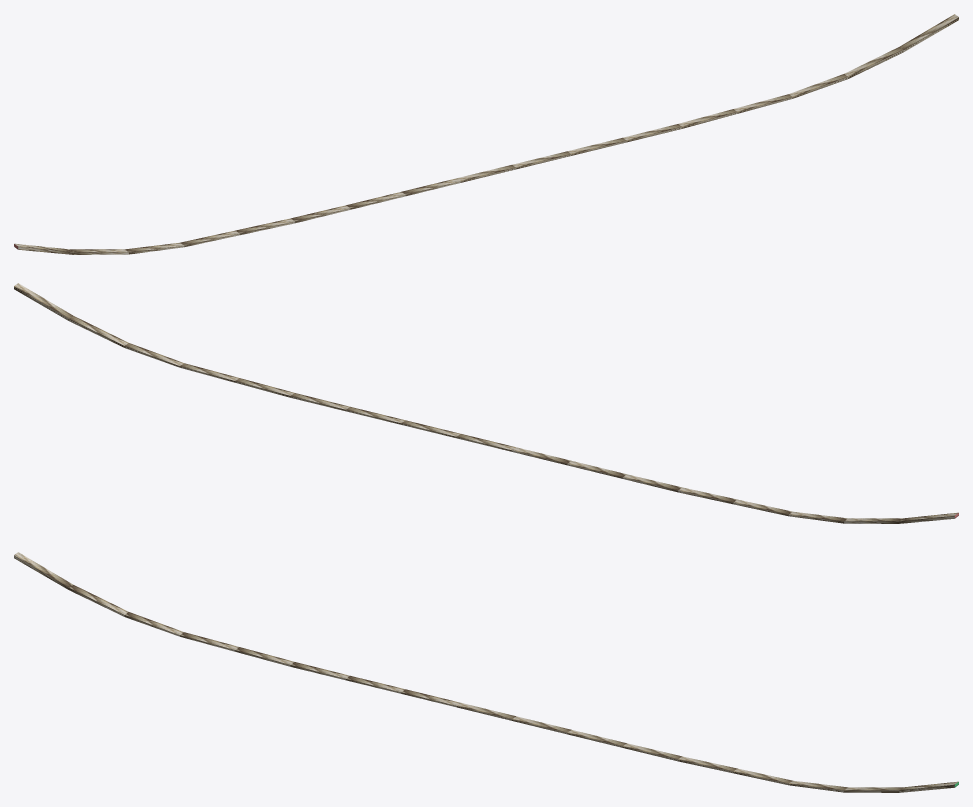
File: chineseropebuildings.fbx
3 views of the same model, one above another, from view 1: azimuth 30°, elevation 25°; view 2: azimuth 150°, elevation 25°; view 3: azimuth 330°, elevation 25° (orthographic).
Parts seen in each view (by area): view 1: rope; view 2: rope; view 3: rope.
Boxes of the visible parts, left/top/right/bottom form: rope: left=14, top=14, right=958, bottom=254; rope: left=14, top=283, right=958, bottom=523; rope: left=14, top=552, right=958, bottom=792.
Bounding box in the file's own units: 1600 × 71.88 × 12.5.
1 material, 1 textured.
